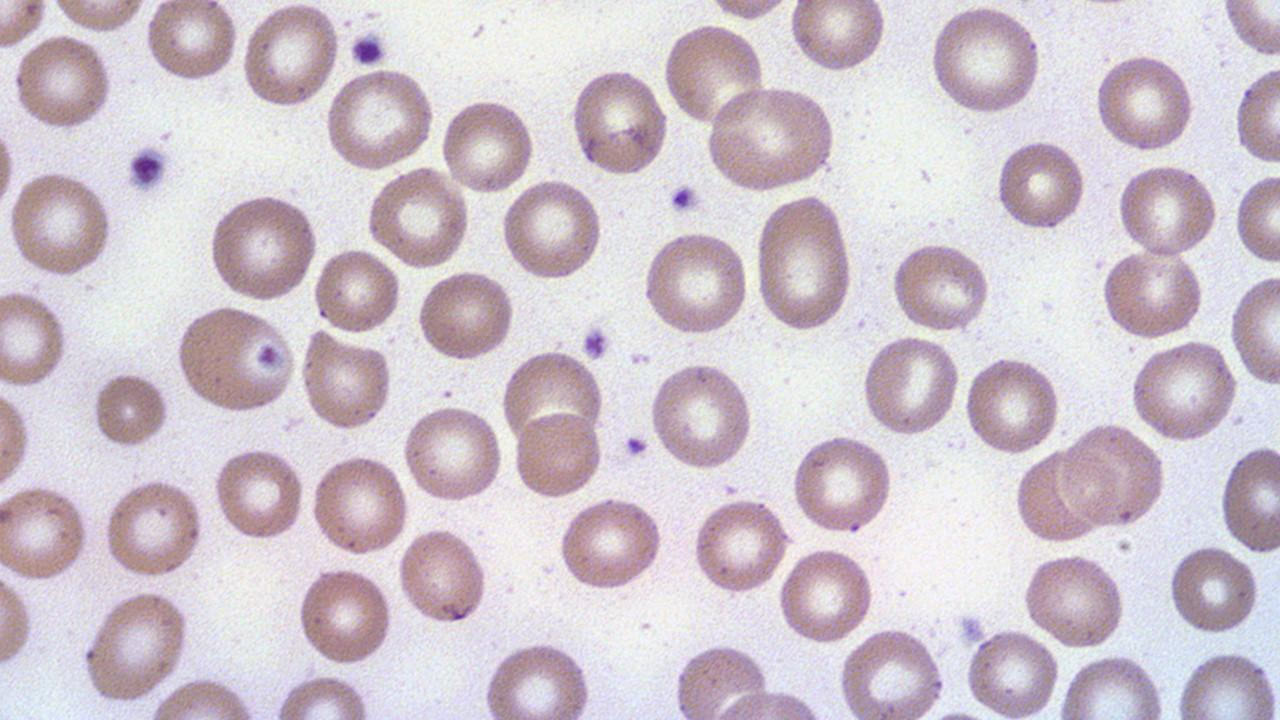Platelets: (124, 142, 173, 193), (347, 30, 390, 71), (580, 322, 612, 364), (666, 182, 704, 216), (956, 608, 986, 644), (622, 434, 652, 458)
RBC: (751, 190, 857, 337), (702, 83, 840, 194), (174, 302, 297, 416), (928, 3, 1045, 118), (80, 588, 192, 706), (207, 190, 319, 304), (638, 228, 752, 338), (7, 167, 116, 281), (648, 358, 756, 472), (322, 66, 437, 173), (1128, 335, 1240, 444), (660, 19, 766, 132), (567, 64, 671, 178), (1060, 422, 1170, 529), (1090, 50, 1200, 156), (498, 176, 604, 283), (239, 1, 341, 112), (1020, 550, 1130, 652), (366, 164, 471, 270), (790, 430, 894, 536), (556, 492, 666, 592), (502, 346, 606, 451), (102, 476, 206, 581), (400, 402, 505, 505), (294, 563, 396, 669), (861, 332, 961, 440), (961, 353, 1063, 458), (310, 451, 410, 558), (690, 493, 792, 597), (837, 624, 949, 718), (776, 544, 878, 646), (12, 32, 116, 132), (298, 329, 396, 434), (1101, 244, 1205, 341), (888, 238, 994, 333), (1117, 161, 1219, 259), (414, 267, 517, 364), (396, 524, 492, 628), (437, 95, 536, 195), (211, 444, 306, 544), (992, 137, 1088, 234), (1165, 542, 1263, 637), (479, 639, 597, 717), (0, 480, 90, 582), (963, 626, 1060, 718), (1012, 447, 1102, 545), (509, 410, 604, 502), (311, 244, 402, 336), (144, 1, 240, 85), (788, 1, 888, 76), (0, 285, 70, 392), (1171, 649, 1279, 717), (672, 640, 770, 714), (1218, 441, 1280, 556), (1057, 652, 1167, 716), (92, 367, 171, 452), (1228, 269, 1280, 390), (1231, 62, 1279, 166), (270, 672, 376, 719), (1232, 170, 1280, 266), (710, 684, 831, 720), (0, 564, 36, 677), (1220, 1, 1280, 60), (1, 381, 32, 494), (49, 0, 148, 33), (2, 2, 53, 54), (700, 0, 794, 23)
